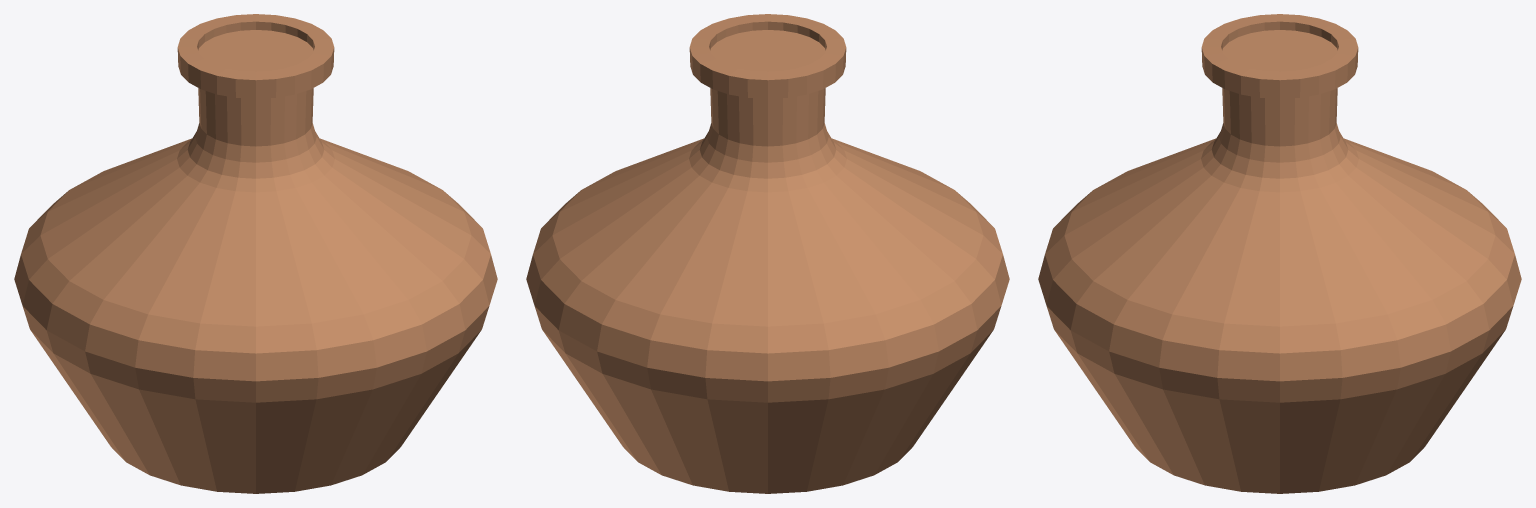
File: Pot.fbx
3 renders of one model, left to right at view 1: azimuth 30°, elevation 25°; view 2: azimuth 150°, elevation 25°; view 3: azimuth 270°, elevation 25°, orthographic.
Parts seen in each view (by area): view 1: Circle.005; view 2: Circle.005; view 3: Circle.005.
Part boxes in pixels (x1,y1,x2,y2): Circle.005: (14, 14, 497, 493); Circle.005: (526, 14, 1009, 493); Circle.005: (1038, 14, 1521, 493).
Bounding box in the file's own units: 234 × 205 × 234.
